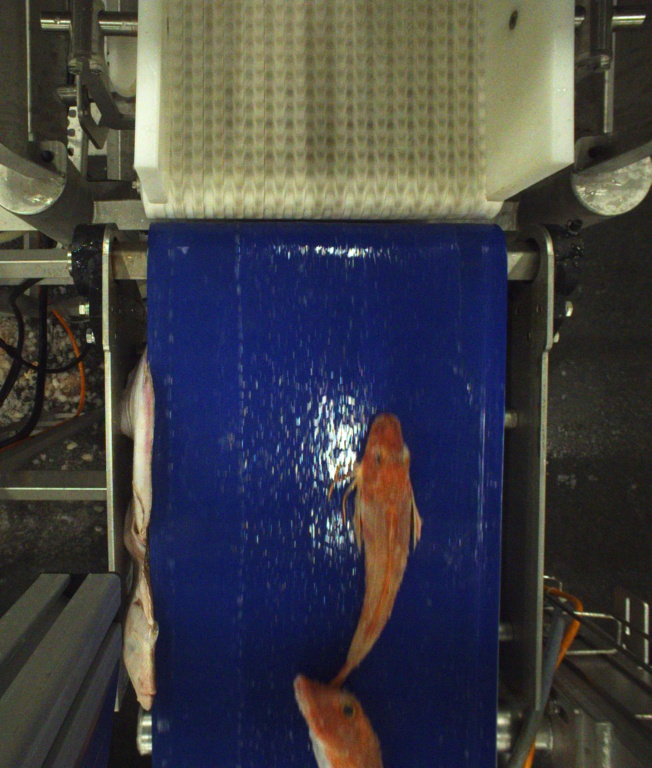GUU: (291, 677, 389, 767)
